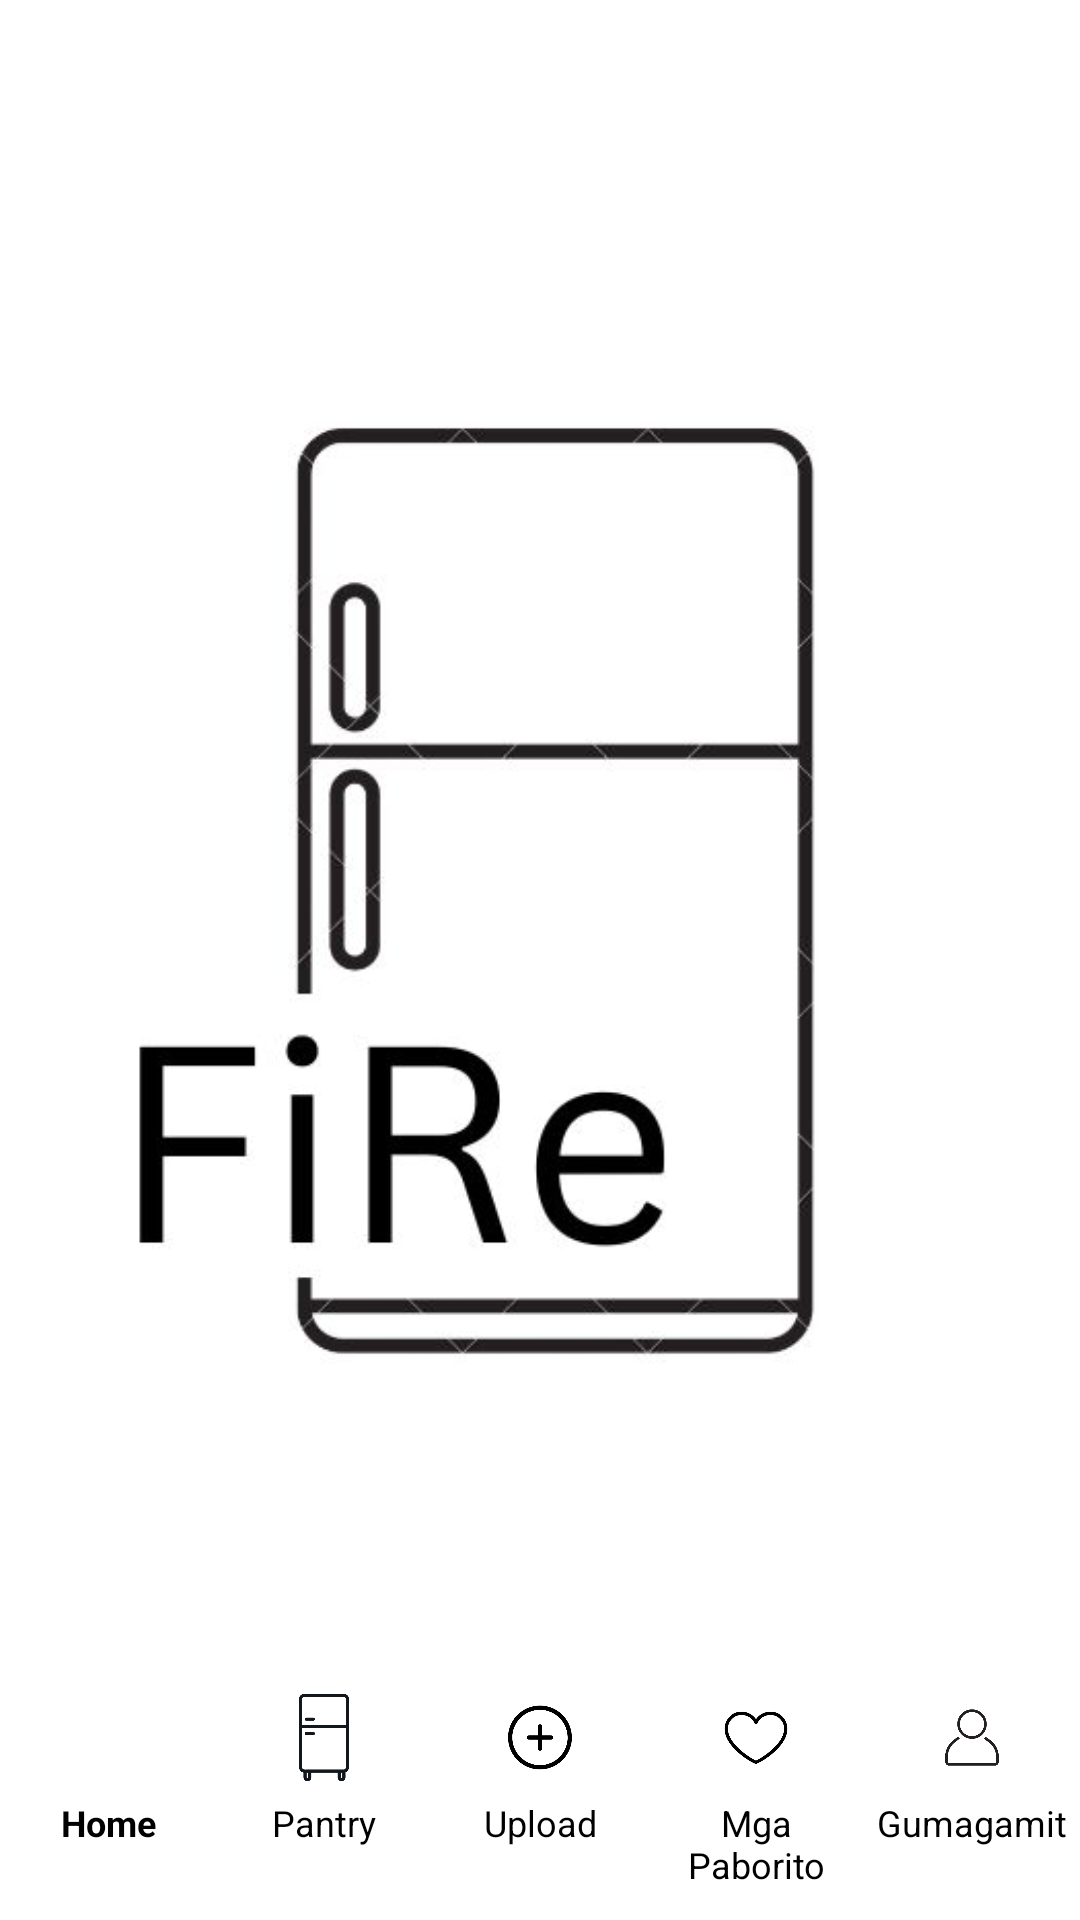

Named icons in this screenshot (1080 × 1920) and their bounding boxes, (x1, y1, x2, y2):
acc: (945, 1709, 999, 1766)
add: (508, 1705, 572, 1770)
favorite: (725, 1712, 788, 1764)
